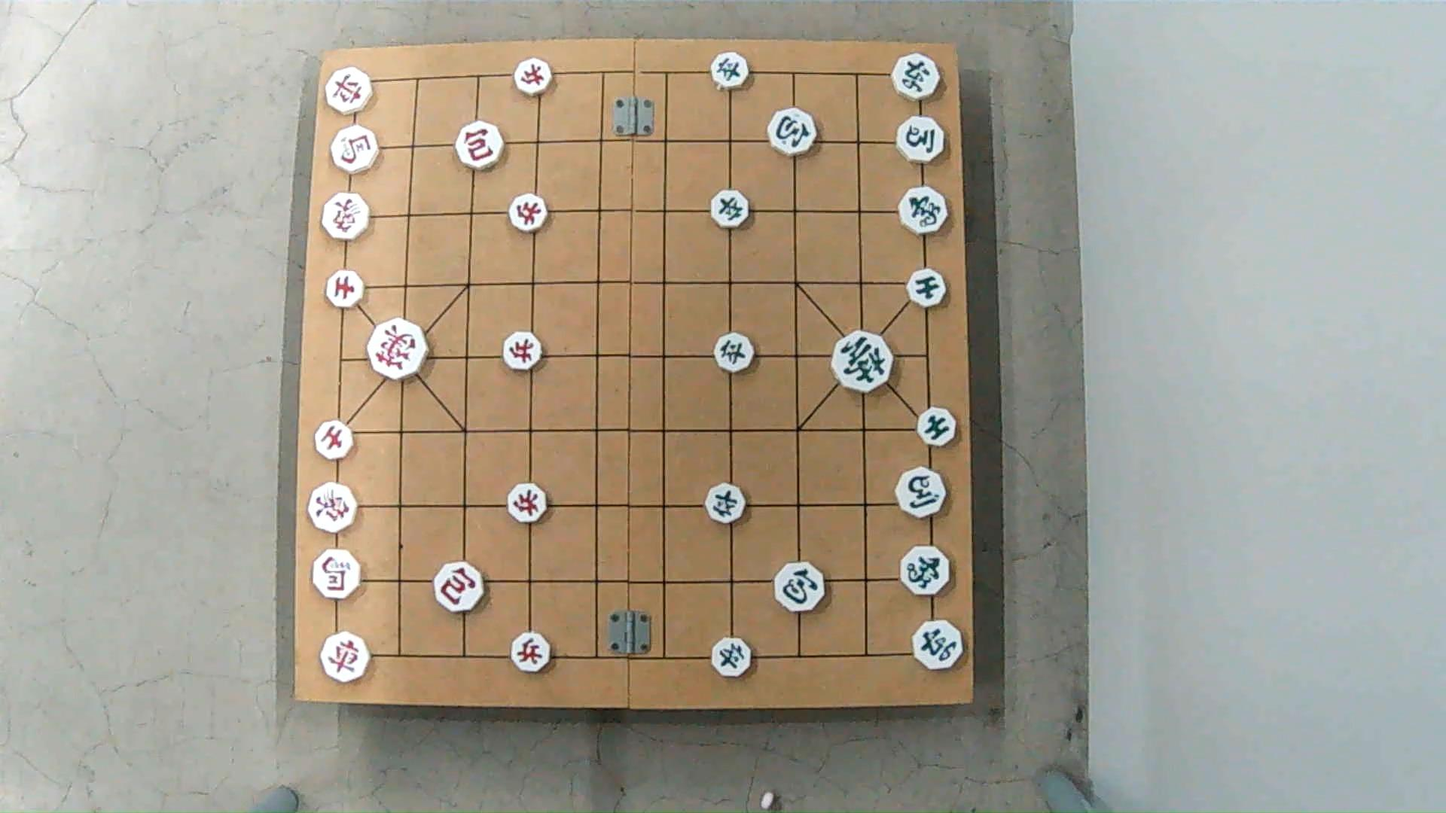cha_green: (912, 620, 966, 666), (892, 57, 944, 101)
cha_red: (322, 635, 374, 680), (326, 71, 377, 113)
jol_green: (709, 188, 752, 228), (710, 641, 755, 678), (703, 486, 747, 523), (710, 336, 753, 373), (712, 53, 752, 87)
jol_red: (509, 637, 553, 674), (506, 486, 549, 523), (511, 59, 554, 96), (500, 335, 543, 370), (509, 196, 553, 230)
ma_green: (896, 470, 950, 517), (894, 117, 946, 162)
ma_red: (312, 550, 362, 597), (331, 128, 380, 171)
po_green: (775, 562, 827, 611), (770, 110, 820, 155)
po_red: (432, 565, 485, 611), (453, 126, 504, 169)
sa_green: (903, 269, 947, 308), (917, 407, 959, 443)
sa_red: (313, 424, 355, 459), (325, 272, 367, 306)
sang_green: (901, 543, 951, 597), (899, 188, 950, 232)
sang_red: (307, 483, 358, 535), (321, 196, 372, 241)
wang_green: (831, 333, 898, 391)
wang_red: (368, 321, 431, 374)
